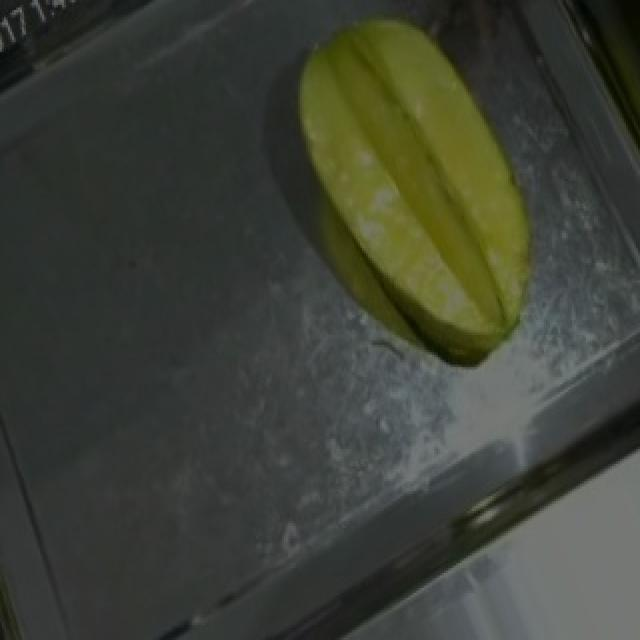fruit: (252, 5, 600, 384)
